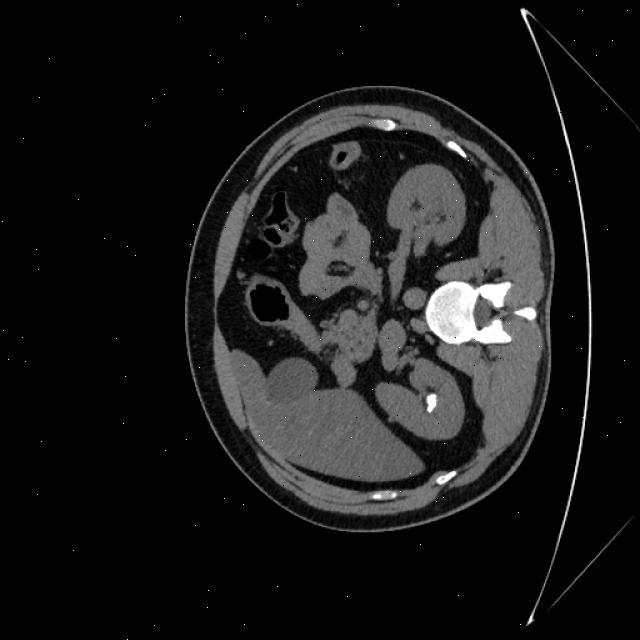kidneystone: (426, 394, 438, 411)
